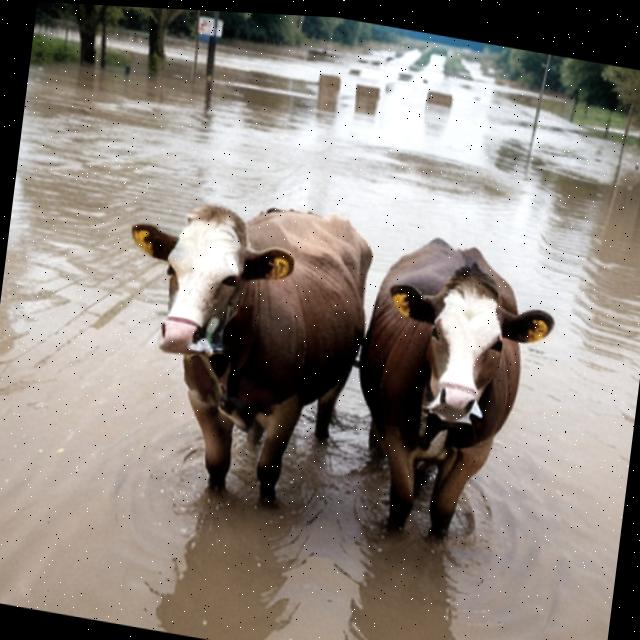cow: (82, 164, 384, 542), (330, 201, 568, 584)
